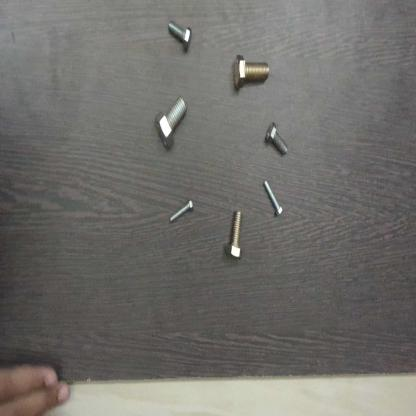Bolts: (153, 89, 190, 153), (226, 53, 272, 95), (222, 208, 246, 262), (264, 119, 290, 160), (164, 19, 195, 52), (260, 176, 284, 218), (171, 195, 193, 230)
